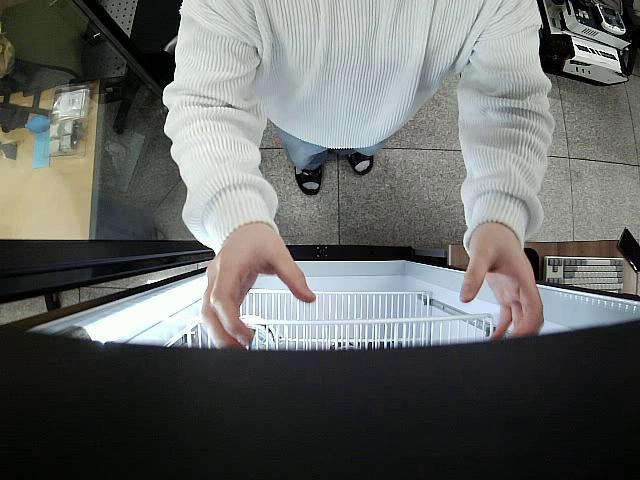00_hand: (203, 231, 316, 349), (459, 230, 545, 341)
